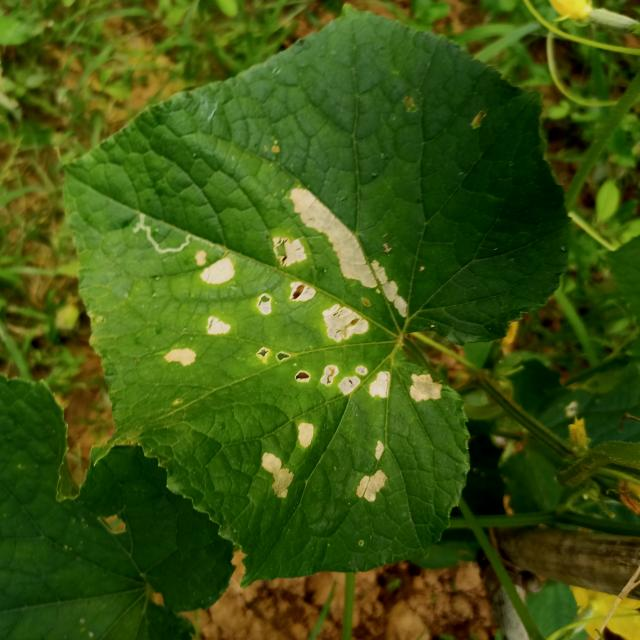disease_cucumber: (269, 184, 412, 347), (156, 251, 274, 375), (255, 415, 396, 514), (250, 342, 451, 411)
